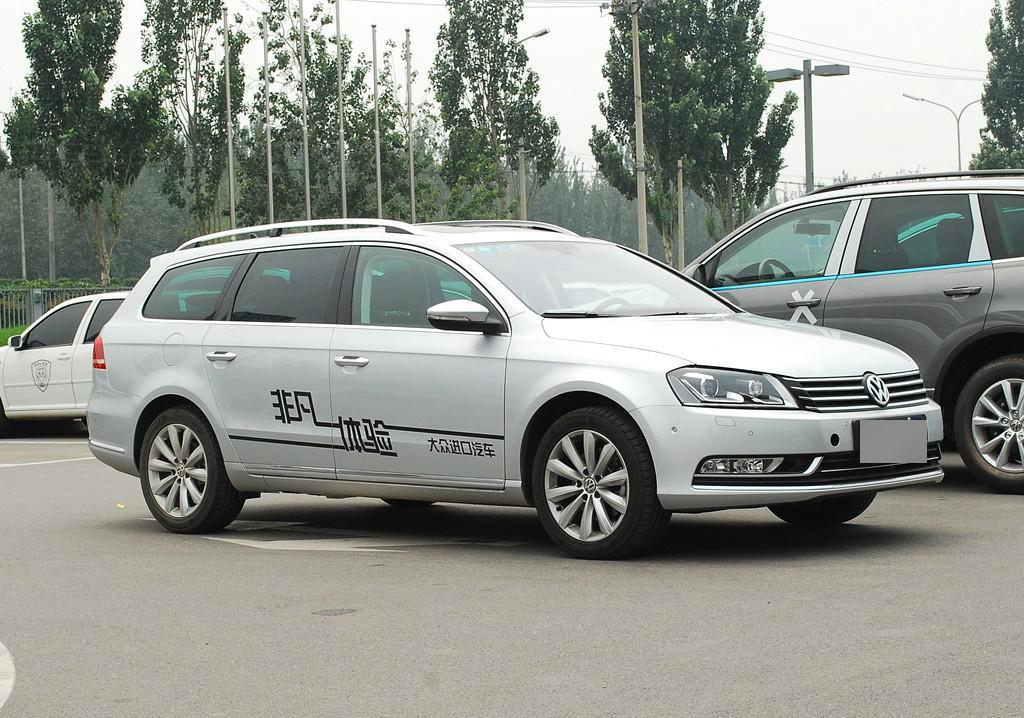Wagon: (88, 217, 944, 559)
